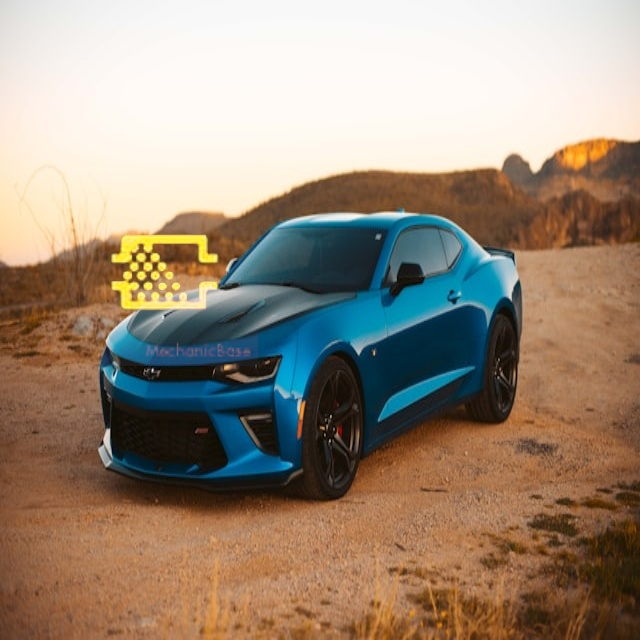symbol: (73, 181, 258, 366)
